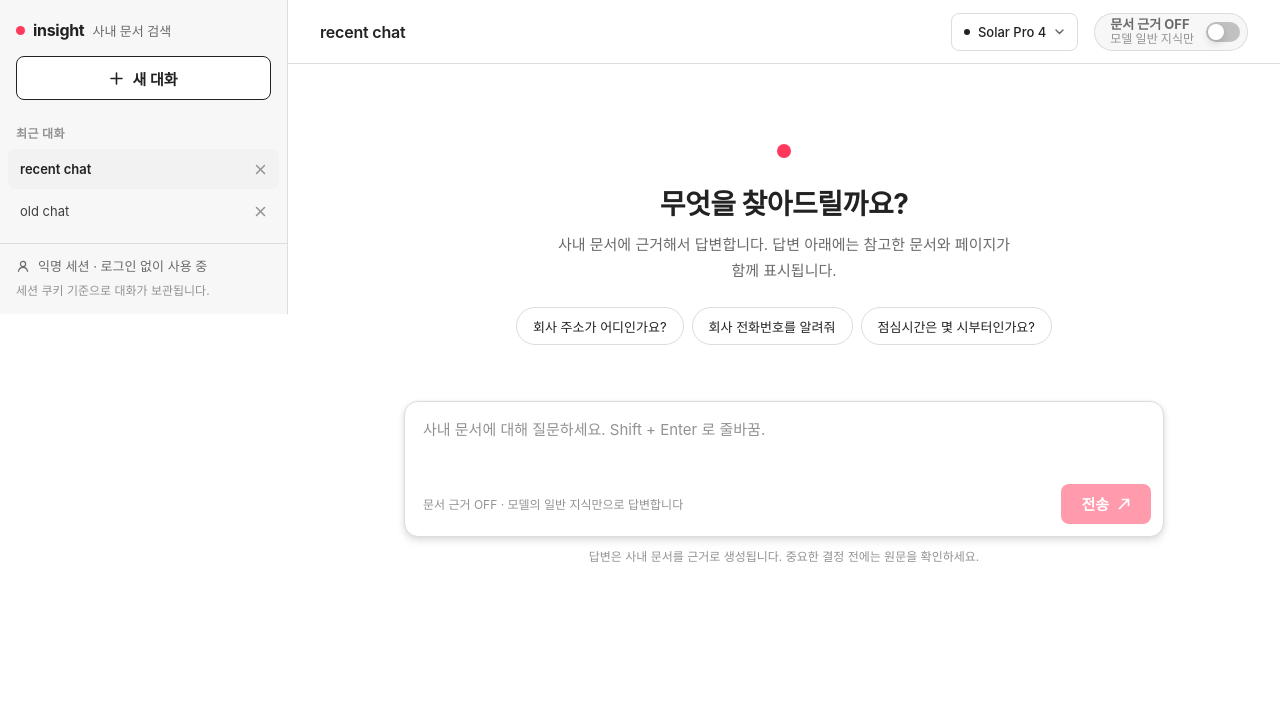
Test: ChatWorkspace › [chat-prototype-port:AC-8] renders the selected conversation's title as an h1, and swaps it on selection
expect the text box is enabled: met, box [405,402,1163,476]
expect the heading reads "recent chat": met, box [320,22,406,42]
Click the button "old chat": (124, 211) [8,191,241,231]
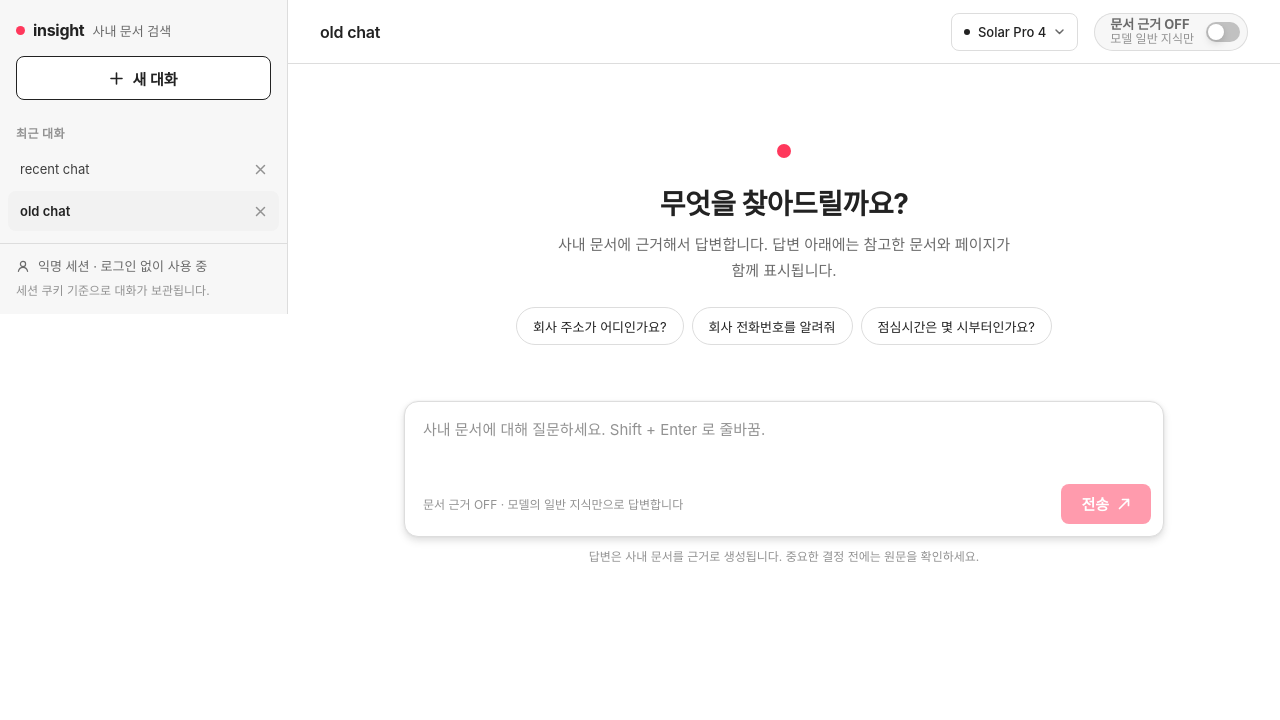
expect the heading reads "old chat": met, box [320,22,380,42]
